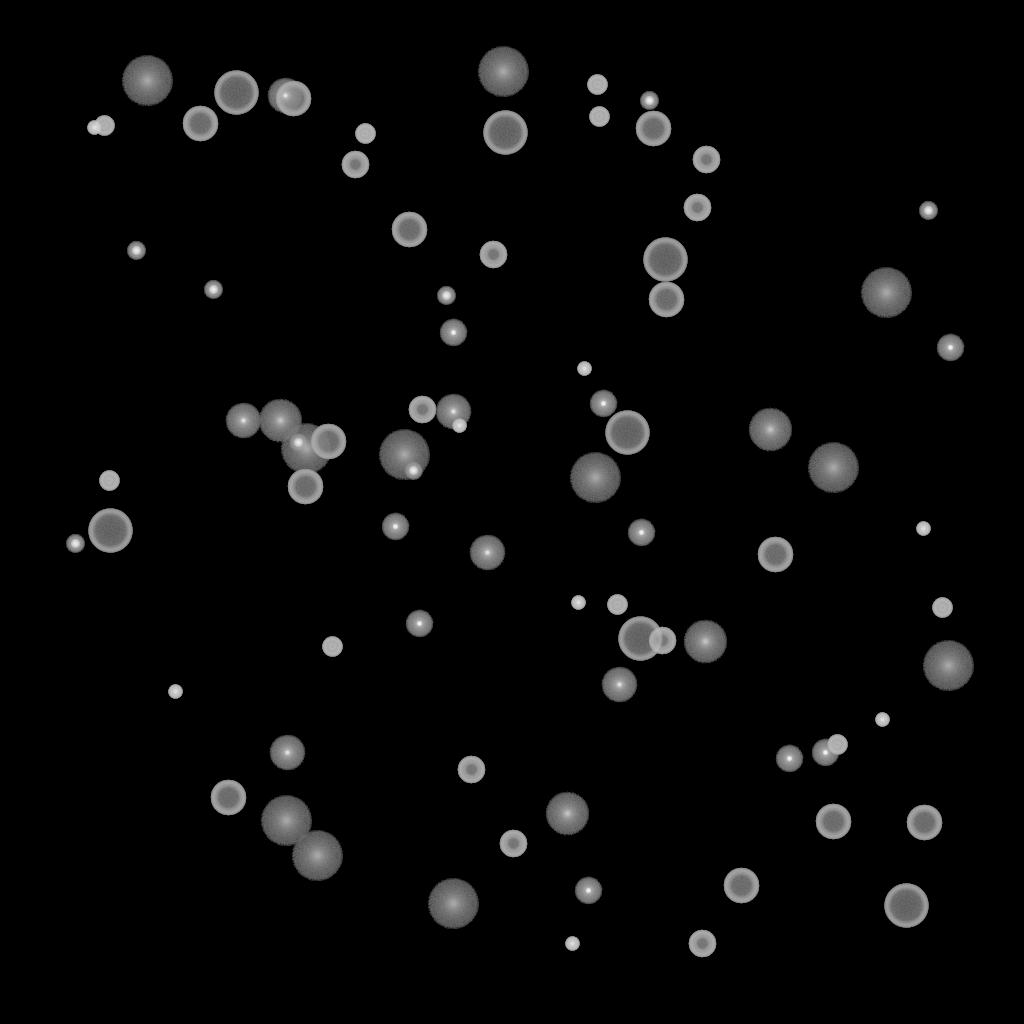depth:-10: (439, 319, 467, 347), (811, 739, 839, 767), (775, 745, 803, 773), (574, 877, 602, 905), (589, 390, 617, 418), (405, 610, 433, 638), (936, 334, 964, 362), (627, 519, 655, 547), (381, 513, 409, 541)
depth:-20: (919, 202, 937, 220), (640, 92, 658, 110), (437, 287, 455, 305), (204, 281, 222, 299), (404, 462, 422, 480), (127, 242, 145, 260), (66, 535, 84, 553), (289, 434, 307, 452)
depth:-30: (875, 713, 889, 727), (452, 419, 466, 433), (168, 685, 182, 699), (87, 121, 101, 135), (571, 596, 585, 610), (565, 937, 579, 951), (577, 362, 591, 376), (916, 522, 930, 536)
depth:-40: (827, 735, 847, 755), (607, 595, 627, 615), (322, 637, 342, 657), (99, 471, 119, 491), (94, 116, 114, 136), (589, 107, 609, 127), (932, 598, 952, 618), (587, 75, 607, 95), (355, 124, 375, 144)
depth:-50: (341, 151, 369, 179), (499, 830, 527, 858), (683, 194, 711, 222), (692, 146, 720, 174), (457, 756, 485, 784), (648, 627, 676, 655), (479, 241, 507, 269), (408, 396, 436, 424), (688, 930, 716, 958)
depth:-60: (210, 780, 246, 816), (310, 424, 346, 460), (182, 106, 218, 142), (391, 212, 427, 248), (635, 111, 671, 147), (287, 469, 323, 505), (906, 805, 942, 841), (648, 282, 684, 318), (757, 537, 793, 573), (815, 804, 851, 840), (723, 868, 759, 904), (275, 81, 311, 117)
depth:-70: (643, 238, 687, 282), (214, 71, 258, 115), (605, 411, 649, 455), (884, 884, 928, 928), (618, 617, 662, 661), (483, 111, 527, 155), (88, 509, 132, 553)
depth:0: (601, 667, 637, 703), (269, 735, 305, 771), (469, 535, 505, 571), (435, 394, 471, 430), (267, 78, 303, 114), (225, 403, 261, 439)
depth:10: (748, 408, 792, 452), (545, 792, 589, 836), (258, 399, 302, 443), (683, 620, 727, 664)
depth:20: (280, 424, 332, 474), (427, 879, 479, 929), (807, 443, 859, 493), (860, 268, 912, 318), (260, 796, 312, 846), (121, 56, 173, 106), (477, 47, 529, 97), (378, 430, 430, 480), (291, 831, 343, 881), (569, 453, 621, 503), (922, 641, 974, 691)
